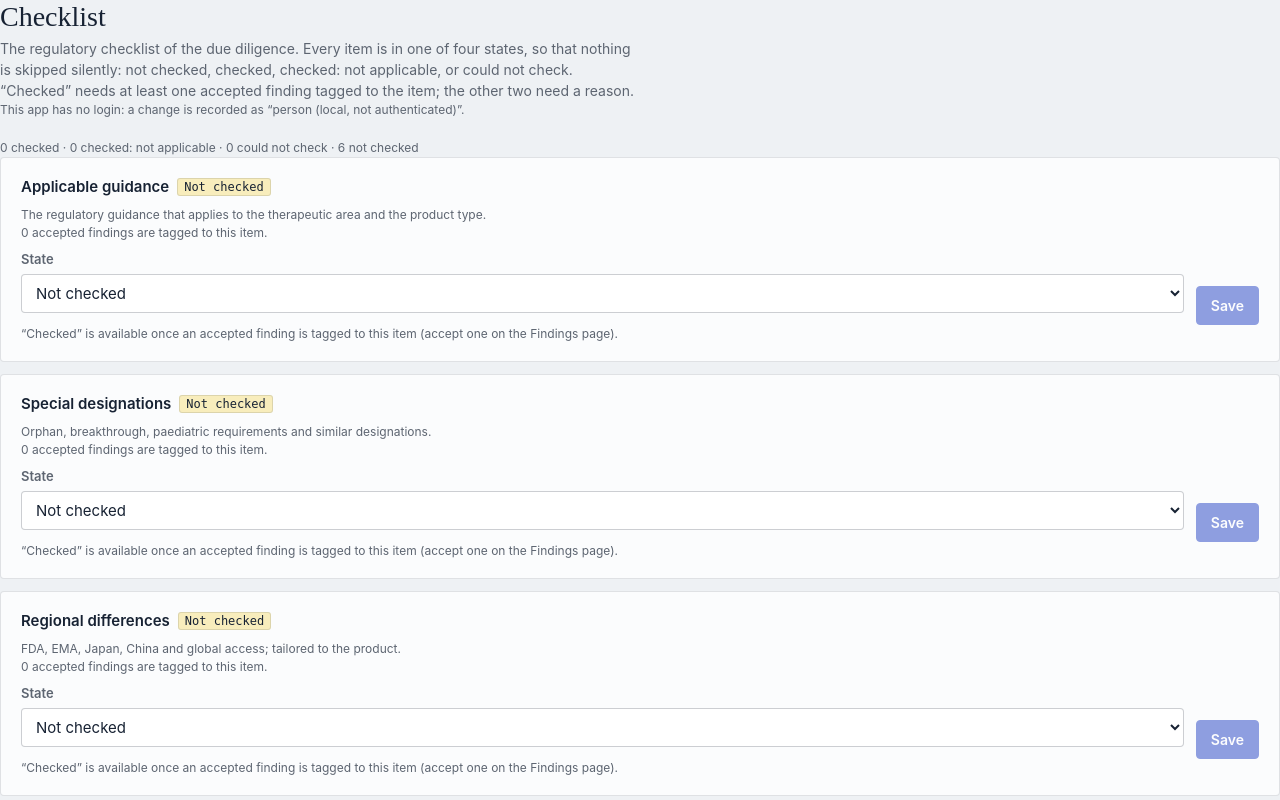
Test: ChecklistPanel › saves a state with its reason, and the card shows what the server saved
Select "Checked: not applicable" in the dropdown named "State of Special designations" at coordinates (602, 510), box [21, 491, 1184, 530]
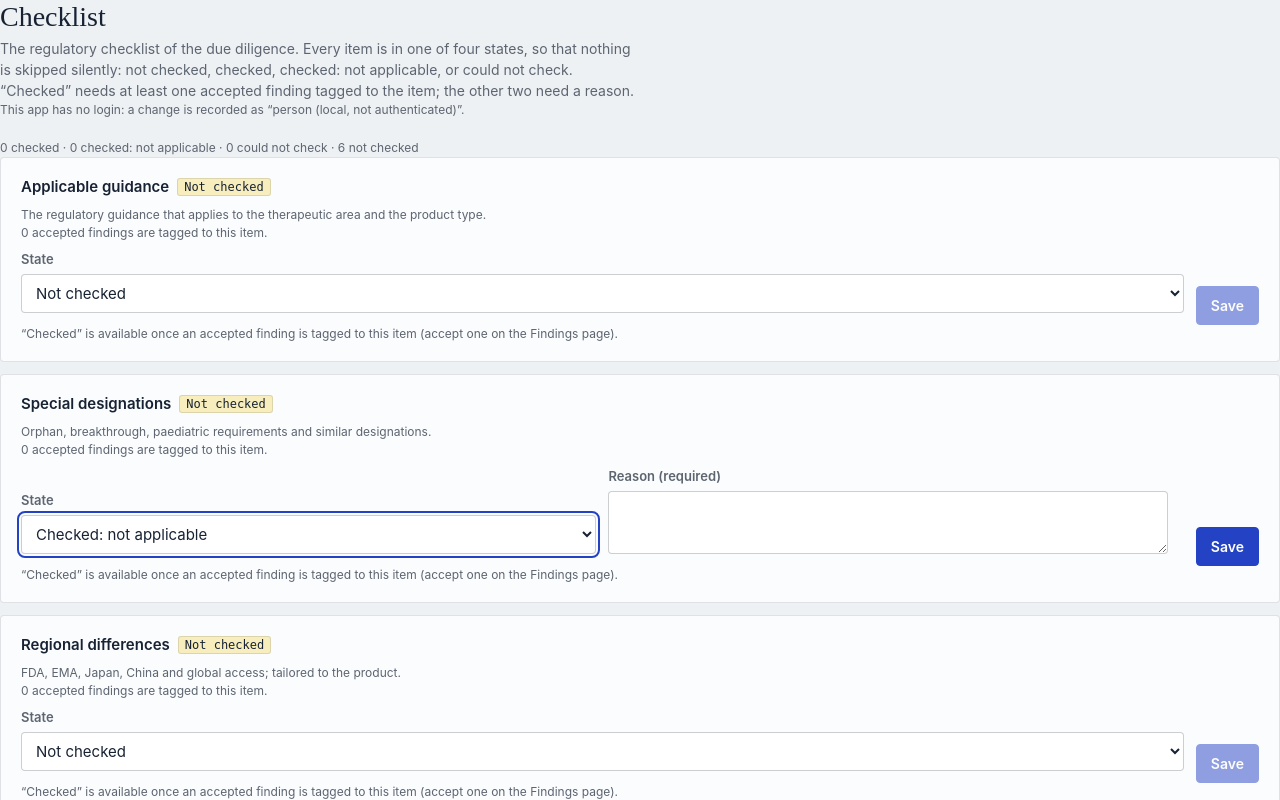
Type "Not an orphan product." into the text box named "Reason for Special designations".
click(888, 522); type("Not an orphan product.")  # box [608, 491, 1168, 554]
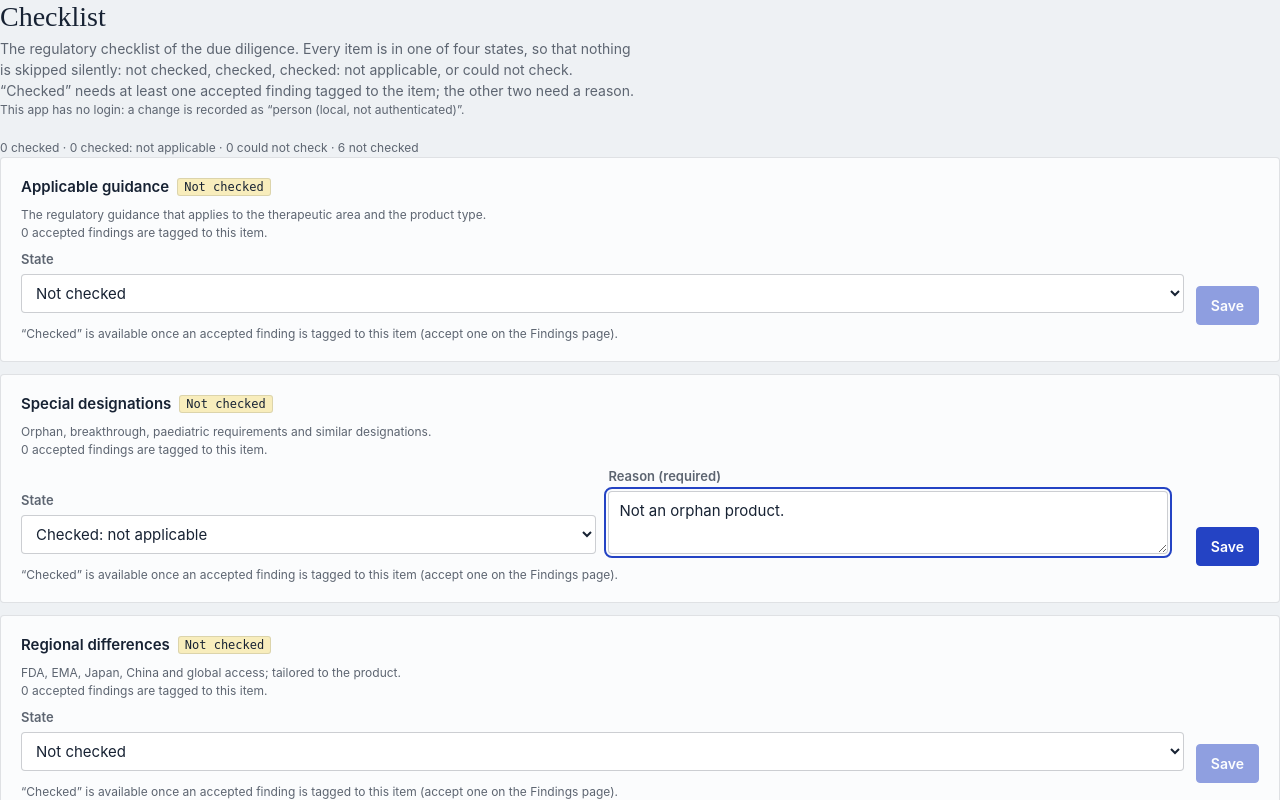
Click the button with aria-label "Save Special designations".
click(1227, 546)  # box [1196, 527, 1259, 566]
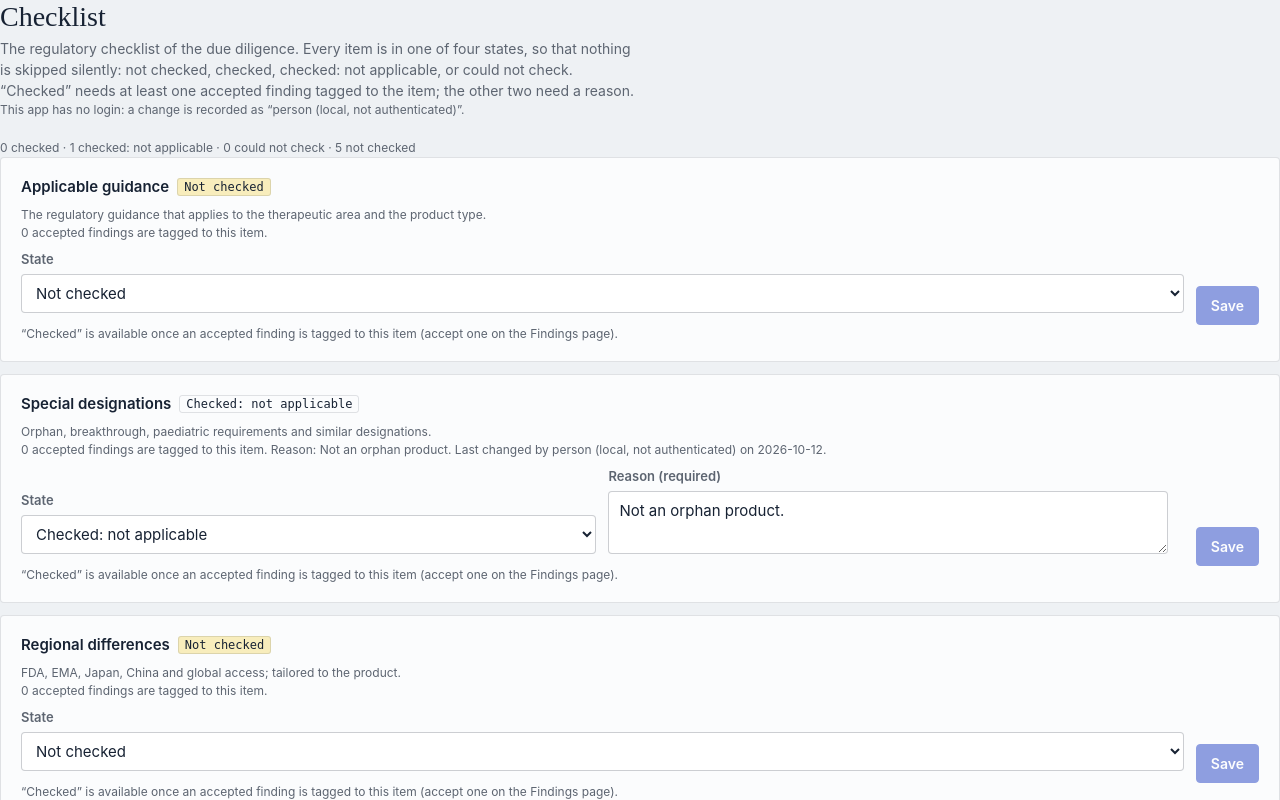
Result: the element "Special designations" shows "Reason: Not an orphan product." at [0, 374, 1279, 603]
Result: the button with aria-label "Save Special designations" is disabled at [1196, 527, 1259, 566]
